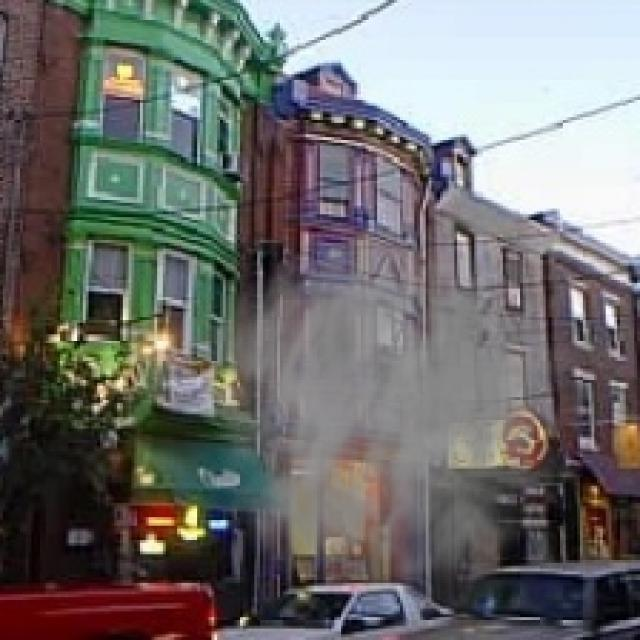Smoke: (200, 220, 583, 637)
